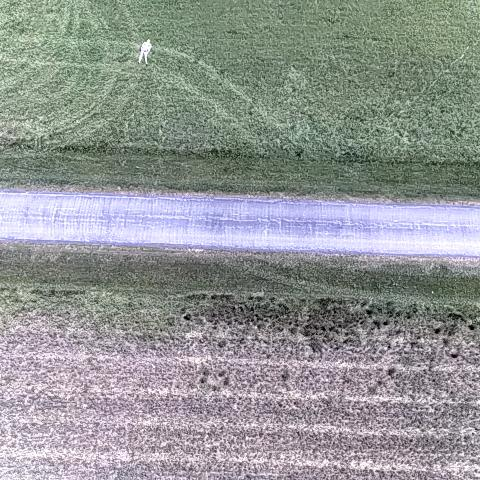person: (136, 37, 154, 65)
